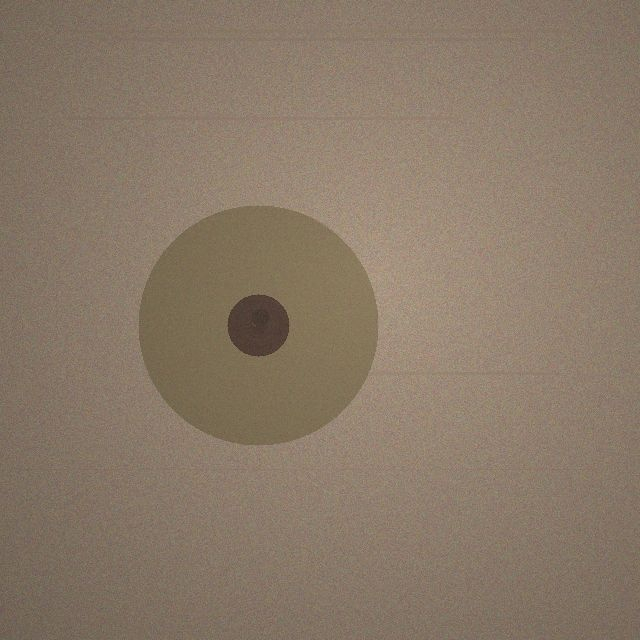cold_weld: (138, 205, 378, 445)
